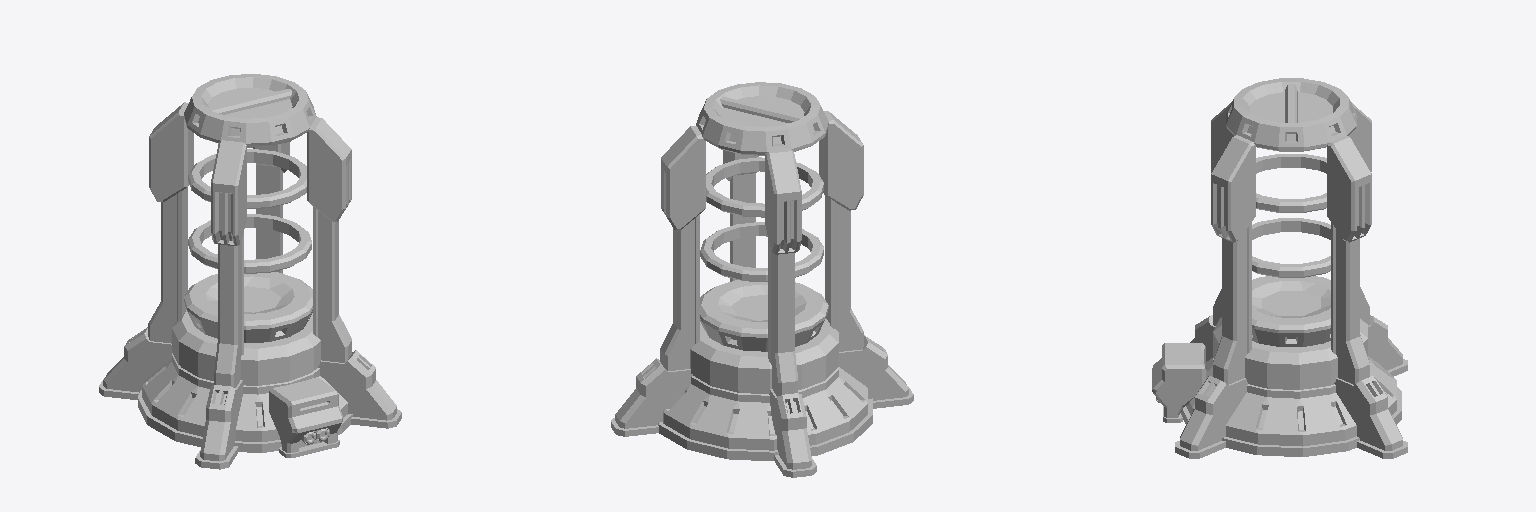
The model's file is container.obj.
3 views of the same model, side by side, from view 1: azimuth 30°, elevation 25°; view 2: azimuth 150°, elevation 25°; view 3: azimuth 270°, elevation 25° (orthographic).
Parts seen in each view (by area): view 1: SM_Bld_Corp_Containment_02, SM_Bld_Corp_Containment_02_Capsule_01; view 2: SM_Bld_Corp_Containment_02, SM_Bld_Corp_Containment_02_Capsule_01; view 3: SM_Bld_Corp_Containment_02, SM_Bld_Corp_Containment_02_Capsule_01.
Boxes of the visible parts, x1=… form: SM_Bld_Corp_Containment_02: x1=99, y1=102, x2=401, y2=469; SM_Bld_Corp_Containment_02_Capsule_01: x1=184, y1=74, x2=316, y2=342; SM_Bld_Corp_Containment_02: x1=611, y1=111, x2=913, y2=477; SM_Bld_Corp_Containment_02_Capsule_01: x1=696, y1=82, x2=828, y2=351; SM_Bld_Corp_Containment_02: x1=1152, y1=102, x2=1407, y2=458; SM_Bld_Corp_Containment_02_Capsule_01: x1=1226, y1=78, x2=1356, y2=346.
Size of the model in its own units: 4.5 by 6.57 by 4.94.